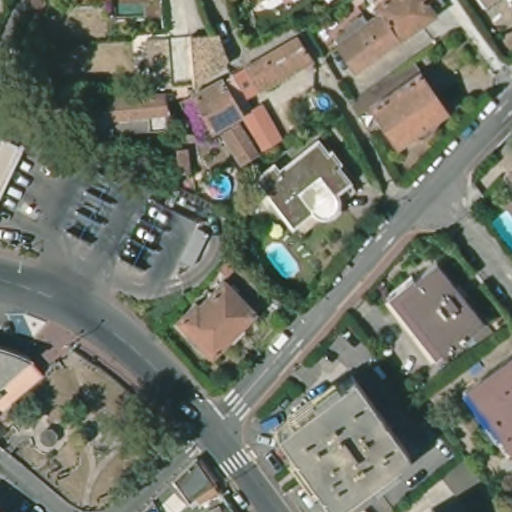pool: (264, 239, 300, 281), (200, 168, 237, 201)
